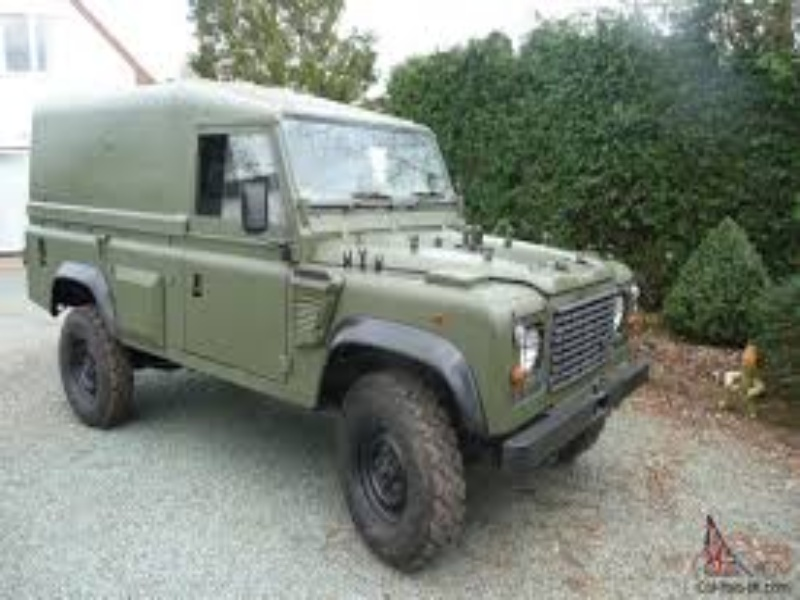jeep: (25, 78, 653, 575)
